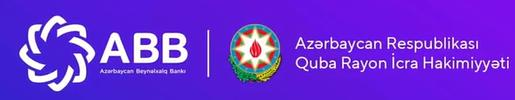ABB: (17, 14, 97, 94)
